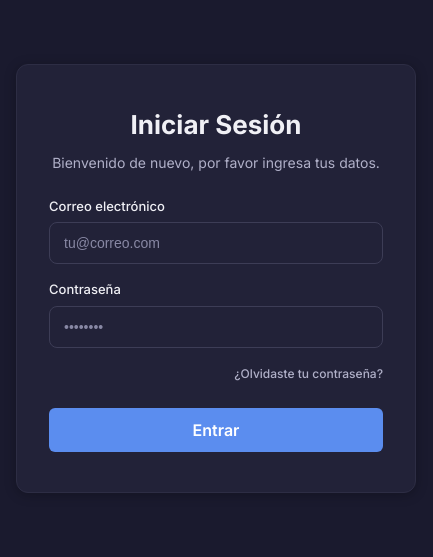
Test: LoginPage › muestra mensaje de backend en errores no-401
Type "demo@test.com" into the field labelled "Correo electrónico" at (216, 243), box [49,222,383,264]
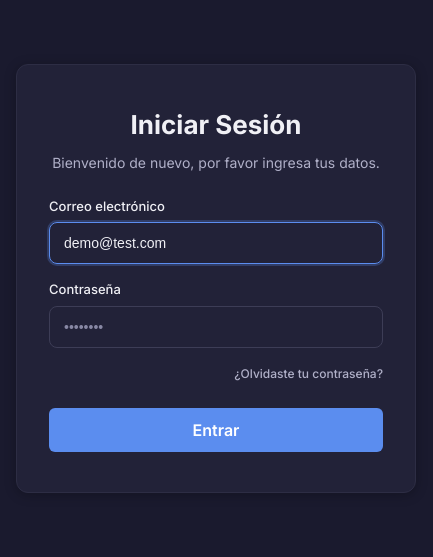
Type "bad" into the password field labelled "Contraseña" at (216, 326), box [49,306,383,348]
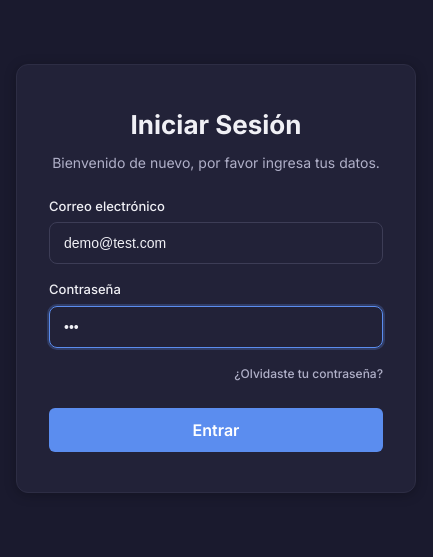
Click the button "Entrar" at (216, 430), box [49,408,383,452]
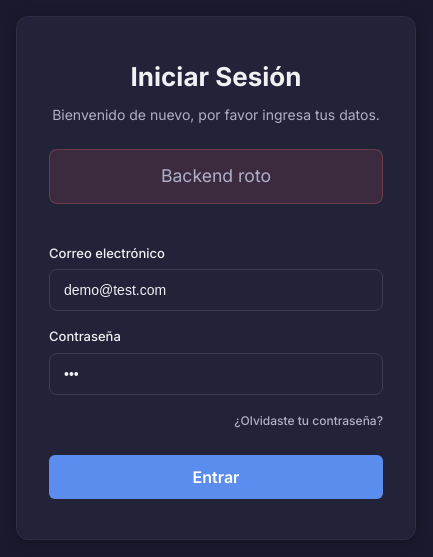
Expected: the text "Backend roto" is shown, [49,149,383,204]
